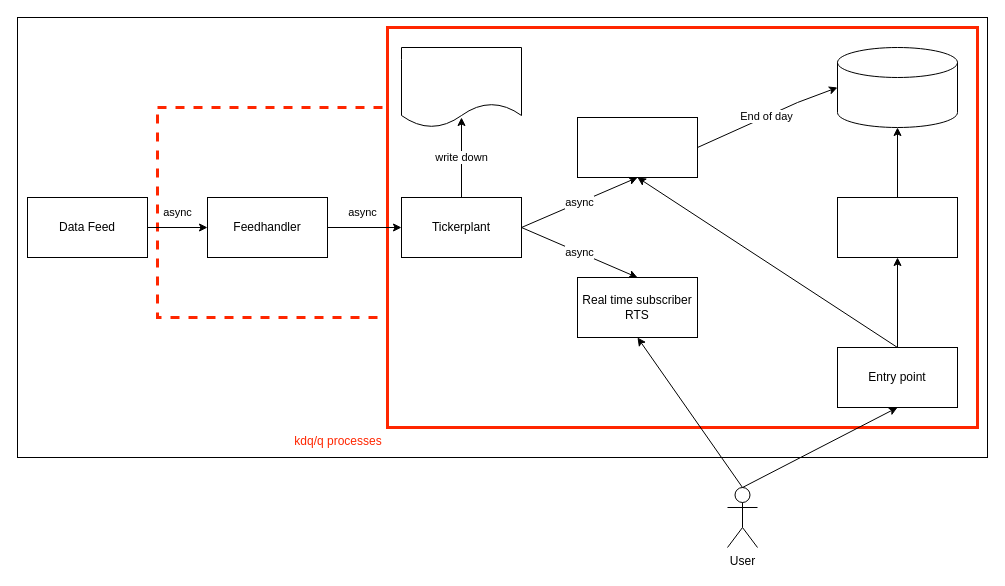
This 1005x586 diagram has some shape labels left out. The box of each missing label's shape, as (x1, y1, x2, y2) in pixels:
Historical Database HDB: (836, 196, 958, 258)
On disk data: (836, 46, 958, 128)
Real time Database RDB: (576, 116, 698, 178)
TP Log: (400, 46, 522, 128)
